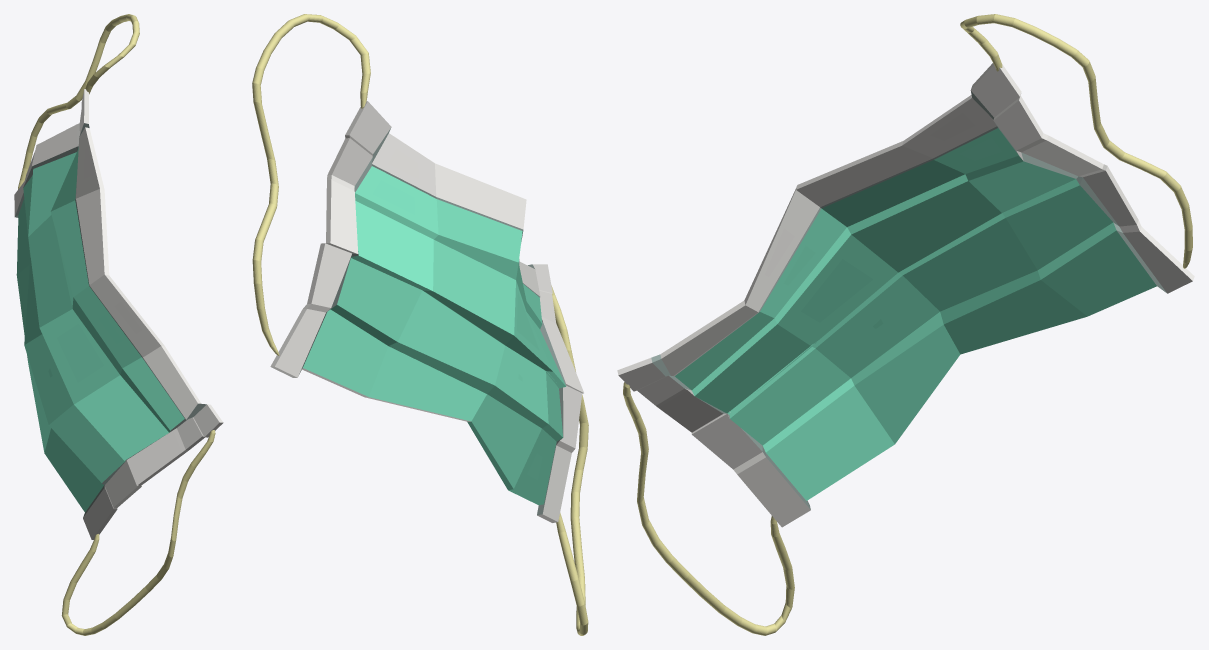
File: máscaraAzul.fbx
3 views of the same model, side by side, from view 1: azimuth 30°, elevation 25°; view 2: azimuth 150°, elevation 25°; view 3: azimuth 270°, elevation 25° (orthographic). The views are drawn at different scales.
Visible parts, largest first — view 1: MáscaraAzul; view 2: MáscaraAzul; view 3: MáscaraAzul.
Part boxes in pixels (left/top/right/bottom): MáscaraAzul: left=14, top=14, right=223, bottom=635; MáscaraAzul: left=252, top=14, right=588, bottom=635; MáscaraAzul: left=617, top=14, right=1194, bottom=635.
Bounding box in the file's own units: 77.2 × 239 × 176.
